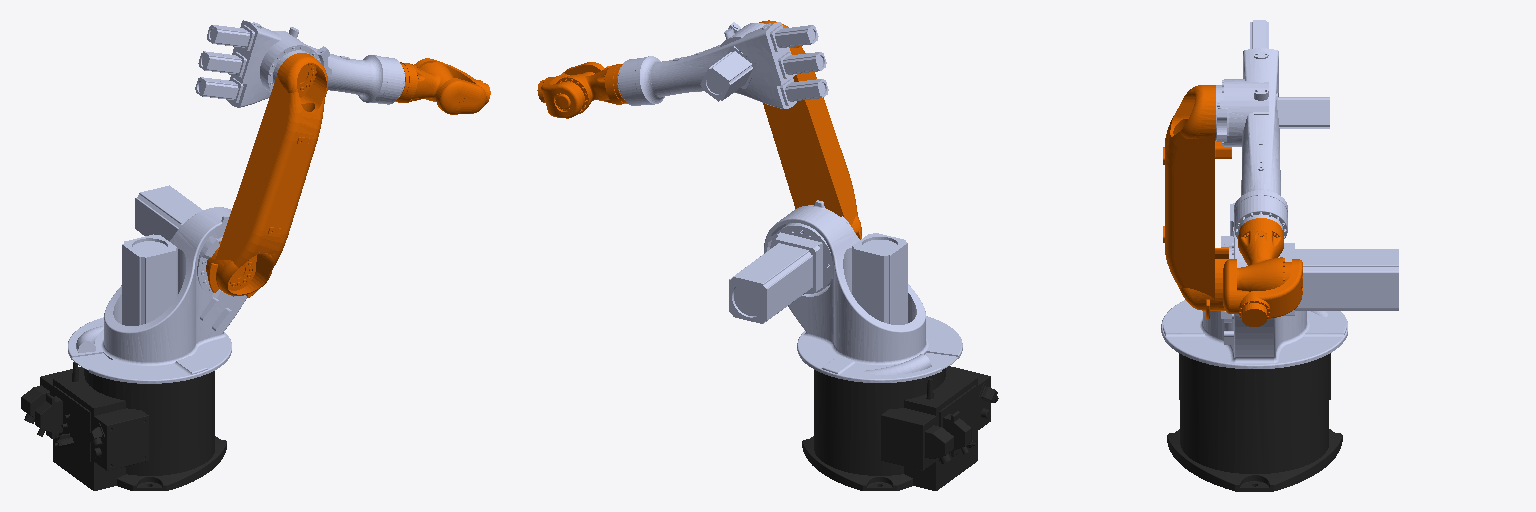
URDF robot description (kuka_robot):
<?xml version="1.0" encoding="utf-8"?>
<!-- This URDF was automatically created by SolidWorks to URDF Exporter! Originally created by [author] ([email redacted]) 
     Commit Version: 1.6.0-1-g15f4949  Build Version: 1.6.7594.29634
     For more information, please see http://wiki.ros.org/sw_urdf_exporter -->
<robot
  name="kuka_robot">
  <link
    name="base_link">
    <inertial>
      <origin
        xyz="-0.042639 0.0012049 0.15892"
        rpy="0 0 0" />
      <mass
        value="70.657" />
      <inertia
        ixx="1.738"
        ixy="0.024319"
        ixz="-0.06093"
        iyy="2.1527"
        iyz="-0.00047228"
        izz="2.2041" />
    </inertial>
    <visual>
      <origin
        xyz="0 0 0"
        rpy="0 0 0" />
      <geometry>
        <mesh
          filename="package://kuka_robot/meshes/base_link.STL" />
      </geometry>
      <material
        name="">
        <color
          rgba="0.2 0.2 0.2 1" />
      </material>
    </visual>
    <collision>
      <origin
        xyz="0 0 0"
        rpy="0 0 0" />
      <geometry>
        <mesh
          filename="package://kuka_robot/meshes/base_link.STL" />
      </geometry>
    </collision>
  </link>
  <link
    name="link_1">
    <inertial>
      <origin
        xyz="0.13958 0.049178 0.19428"
        rpy="0 0 0" />
      <mass
        value="33.585" />
      <inertia
        ixx="0.57925"
        ixy="0.0064705"
        ixz="-0.22495"
        iyy="0.81369"
        iyz="0.0035931"
        izz="0.63771" />
    </inertial>
    <visual>
      <origin
        xyz="0 0 0"
        rpy="0 0 0" />
      <geometry>
        <mesh
          filename="package://kuka_robot/meshes/link_1.STL" />
      </geometry>
      <material
        name="">
        <color
          rgba="0.79216 0.81961 0.93333 1" />
      </material>
    </visual>
    <collision>
      <origin
        xyz="0 0 0"
        rpy="0 0 0" />
      <geometry>
        <mesh
          filename="package://kuka_robot/meshes/link_1.STL" />
      </geometry>
    </collision>
  </link>
  <joint
    name="joint_1"
    type="continuous">
    <origin
      xyz="0 0 0.363"
      rpy="0 0 0" />
    <parent
      link="base_link" />
    <child
      link="link_1" />
    <axis
      xyz="0 0 1" />
    <limit
      effort="100"
      velocity="5" />
    <dynamics
      damping="2"
      friction="1" />
  </joint>
  <link
    name="link_2">
    <inertial>
      <origin
        xyz="0.30938 0.0043846 0.050481"
        rpy="0 0 0" />
      <mass
        value="11.861" />
      <inertia
        ixx="0.055144"
        ixy="-0.0067503"
        ixz="-0.023505"
        iyy="0.54626"
        iyz="-0.00049287"
        izz="0.54872" />
    </inertial>
    <visual>
      <origin
        xyz="0 0 0"
        rpy="0 0 0" />
      <geometry>
        <mesh
          filename="package://kuka_robot/meshes/link_2.STL" />
      </geometry>
      <material
        name="">
        <color
          rgba="0.9098 0.44314 0.031373 1" />
      </material>
    </visual>
    <collision>
      <origin
        xyz="0 0 0"
        rpy="0 0 0" />
      <geometry>
        <mesh
          filename="package://kuka_robot/meshes/link_2.STL" />
      </geometry>
    </collision>
  </link>
  <joint
    name="joint_2"
    type="revolute">
    <origin
      xyz="0.26 -0.115 0.282"
      rpy="1.5708 -1.205 0" />
    <parent
      link="link_1" />
    <child
      link="link_2" />
    <axis
      xyz="0 0 1" />
    <limit
      lower="-2.5"
      upper="2.5"
      effort="100"
      velocity="5" />
    <dynamics
      damping="2"
      friction="1" />
  </joint>
  <link
    name="link_3">
    <inertial>
      <origin
        xyz="-0.012724 -0.073133 -0.12639"
        rpy="0 0 0" />
      <mass
        value="14.687" />
      <inertia
        ixx="0.4395"
        ixy="-0.0096868"
        ixz="-0.0033365"
        iyy="0.06145"
        iyz="-0.02184"
        izz="0.44547" />
    </inertial>
    <visual>
      <origin
        xyz="0 0 0"
        rpy="0 0 0" />
      <geometry>
        <mesh
          filename="package://kuka_robot/meshes/link_3.STL" />
      </geometry>
      <material
        name="">
        <color
          rgba="0.79216 0.81961 0.93333 1" />
      </material>
    </visual>
    <collision>
      <origin
        xyz="0 0 0"
        rpy="0 0 0" />
      <geometry>
        <mesh
          filename="package://kuka_robot/meshes/link_3.STL" />
      </geometry>
    </collision>
  </link>
  <joint
    name="joint_3"
    type="revolute">
    <origin
      xyz="0.67993 0.0099989 -0.003"
      rpy="0 0 0.029172" />
    <parent
      link="link_2" />
    <child
      link="link_3" />
    <axis
      xyz="0 0 1" />
    <limit
      lower="-0.85"
      upper="4.1415"
      effort="80"
      velocity="7" />
    <dynamics
      damping="2"
      friction="1" />
  </joint>
  <link
    name="link_4">
    <inertial>
      <origin
        xyz="-0.0083171 3.815E-05 0.11923"
        rpy="0 0 0" />
      <mass
        value="2.6169" />
      <inertia
        ixx="0.0054032"
        ixy="-5.8426E-06"
        ixz="-3.2818E-05"
        iyy="0.0059988"
        iyz="-6.9645E-06"
        izz="0.0049408" />
    </inertial>
    <visual>
      <origin
        xyz="0 0 0"
        rpy="0 0 0" />
      <geometry>
        <mesh
          filename="package://kuka_robot/meshes/link_4.STL" />
      </geometry>
      <material
        name="">
        <color
          rgba="0.9098 0.44314 0.031373 1" />
      </material>
    </visual>
    <collision>
      <origin
        xyz="0 0 0"
        rpy="0 0 0" />
      <geometry>
        <mesh
          filename="package://kuka_robot/meshes/link_4.STL" />
      </geometry>
    </collision>
  </link>
  <joint
    name="joint_4"
    type="continuous">
    <origin
      xyz="-0.0225 -0.4765 -0.13"
      rpy="1.5708 -1.5708 0" />
    <parent
      link="link_3" />
    <child
      link="link_4" />
    <axis
      xyz="0 0 1" />
    <limit
      effort="30"
      velocity="10" />
    <dynamics
      damping="1"
      friction="0.5" />
  </joint>
  <link
    name="link_5">
    <inertial>
      <origin
        xyz="0.052442 -4.3372E-07 -0.062534"
        rpy="0 0 0" />
      <mass
        value="1.8559" />
      <inertia
        ixx="0.01226"
        ixy="7.9782E-08"
        ixz="-0.00090173"
        iyy="0.016628"
        iyz="2.3678E-07"
        izz="0.0070619" />
    </inertial>
    <visual>
      <origin
        xyz="0 0 0"
        rpy="0 0 0" />
      <geometry>
        <mesh
          filename="package://kuka_robot/meshes/link_5.STL" />
      </geometry>
      <material
        name="">
        <color
          rgba="0.9098 0.44314 0.031373 1" />
      </material>
    </visual>
    <collision>
      <origin
        xyz="0 0 0"
        rpy="0 0 0" />
      <geometry>
        <mesh
          filename="package://kuka_robot/meshes/link_5.STL" />
      </geometry>
    </collision>
  </link>
  <joint
    name="joint_5"
    type="revolute">
    <origin
      xyz="0.068 0 0.19"
      rpy="3.1415 -1.5708 0" />
    <parent
      link="link_4" />
    <child
      link="link_5" />
    <axis
      xyz="0 0 1" />
    <limit
      lower="-2.5"
      upper="2.5"
      effort="30"
      velocity="10" />
    <dynamics
      damping="1"
      friction="0.5" />
  </joint>
  <link
    name="link_6">
    <inertial>
      <origin
        xyz="0.0047745 8.1697E-06 0.034789"
        rpy="0 0 0" />
      <mass
        value="0.39979" />
      <inertia
        ixx="0.00085878"
        ixy="-1.6637E-06"
        ixz="2.3277E-05"
        iyy="0.00064933"
        iyz="-1.4489E-07"
        izz="0.001134" />
    </inertial>
    <visual>
      <origin
        xyz="0 0 0"
        rpy="0 0 0" />
      <geometry>
        <mesh
          filename="package://kuka_robot/meshes/link_6.STL" />
      </geometry>
      <material
        name="">
        <color
          rgba="0.2 0.2 0.2 1" />
      </material>
    </visual>
    <collision>
      <origin
        xyz="0 0 0"
        rpy="0 0 0" />
      <geometry>
        <mesh
          filename="package://kuka_robot/meshes/link_6.STL" />
      </geometry>
    </collision>
  </link>
  <joint
    name="joint_6"
    type="continuous">
    <origin
      xyz="0.158 0 -0.049"
      rpy="1.5708 -1.5538 1.5708" />
    <parent
      link="link_5" />
    <child
      link="link_6" />
    <axis
      xyz="0 0 1" />
    <limit
      effort="30"
      velocity="10" />
    <dynamics
      damping="1"
      friction="0.5" />
  </joint>
</robot>

--- Render facts (derived) ---
3 views of the same robot in one strip: view 1: azimuth 30°, elevation 25°; view 2: azimuth 150°, elevation 25°; view 3: azimuth 270°, elevation 25° (orthographic).
Robot: kuka_robot — 7 links, 6 joints (3 revolute, 3 continuous); root link base_link; default pose: all joints at 0.
Visible links, largest first — view 1: link_1, base_link, link_2, link_3, link_5, link_4; view 2: link_1, base_link, link_3, link_2, link_5, link_4; view 3: base_link, link_1, link_2, link_3, link_5, link_4.
Link boxes in pixels (<box>): link_1: <box>68,185,246,383</box>; base_link: <box>21,362,226,490</box>; link_2: <box>206,53,327,297</box>; link_3: <box>195,20,404,107</box>; link_5: <box>415,58,490,114</box>; link_4: <box>396,62,453,102</box>; link_1: <box>729,200,962,382</box>; base_link: <box>802,366,998,490</box>; link_3: <box>617,22,828,108</box>; link_2: <box>759,20,861,239</box>; link_5: <box>537,62,604,118</box>; link_4: <box>556,64,626,114</box>; base_link: <box>1167,353,1342,491</box>; link_1: <box>1161,202,1398,368</box>; link_2: <box>1163,85,1231,318</box>; link_3: <box>1216,20,1329,238</box>; link_5: <box>1223,259,1302,326</box>; link_4: <box>1238,218,1287,291</box>.
Size in the robot's own frame: 1.66 by 0.6849 by 1.5 metres.
Meshes: 7 distinct files referenced, 6 mesh visuals loaded (6 binary STL); not drawn: 1 (reference not matched to a file when rendering).